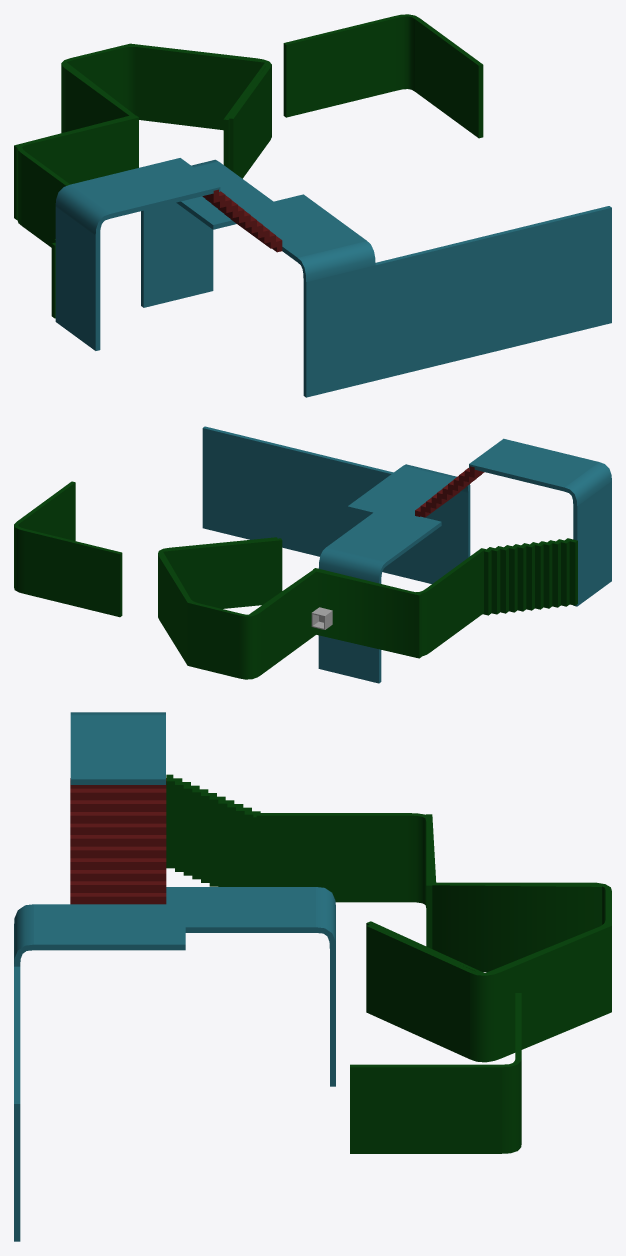
Rendered from blockout01.fbx.
The picture shows the model from 3 angles, top to bottom: view 1: azimuth 30°, elevation 25°; view 2: azimuth 150°, elevation 25°; view 3: azimuth 270°, elevation 25°; orthographic projection. The views are drawn at different scales.
Visible parts, largest first — view 1: pCube16, pCube13, pCube19, pCube6, pCube17, pCube15, pCube10, pCube1, pCube8; view 2: pCube16, pCube19, pCube13, pCube6, pCube17, pCube8, pCube7, pCube10, pCube15, pCube1, pCube11; view 3: pCube10, pCube13, pCube15, pCube8, pCube1, pCube16, pCube17, pCube7, pCube6, pCube19.
Boxes of the visible parts, x1=… form: pCube16: x1=243, y1=194, x2=611, y2=397; pCube13: x1=283, y1=14, x2=483, y2=138; pCube19: x1=61, y1=45, x2=267, y2=168; pCube6: x1=55, y1=158, x2=220, y2=350; pCube17: x1=141, y1=159, x2=282, y2=307; pCube15: x1=17, y1=115, x2=138, y2=247; pCube10: x1=70, y1=43, x2=271, y2=178; pCube1: x1=202, y1=189, x2=282, y2=252; pCube8: x1=14, y1=63, x2=136, y2=219; pCube16: x1=202, y1=426, x2=470, y2=583; pCube19: x1=159, y1=538, x2=316, y2=679; pCube13: x1=14, y1=481, x2=122, y2=617; pCube6: x1=469, y1=438, x2=611, y2=606; pCube17: x1=318, y1=507, x2=441, y2=683; pCube8: x1=249, y1=569, x2=421, y2=658; pCube7: x1=483, y1=538, x2=577, y2=615; pCube10: x1=158, y1=537, x2=277, y2=678; pCube15: x1=313, y1=548, x2=485, y2=656; pCube1: x1=415, y1=466, x2=484, y2=517; pCube11: x1=311, y1=607, x2=332, y2=629; pCube10: x1=366, y1=890, x2=611, y2=1062; pCube13: x1=350, y1=993, x2=521, y2=1153; pCube15: x1=256, y1=813, x2=432, y2=948; pCube8: x1=426, y1=814, x2=601, y2=972; pCube1: x1=70, y1=778, x2=166, y2=904; pCube16: x1=14, y1=904, x2=185, y2=1241; pCube17: x1=164, y1=887, x2=335, y2=1086; pCube7: x1=166, y1=774, x2=260, y2=886; pCube6: x1=70, y1=712, x2=165, y2=784; pCube19: x1=366, y1=882, x2=611, y2=975.
Size of the model in its own units: 11307 by 4452 by 9717.
